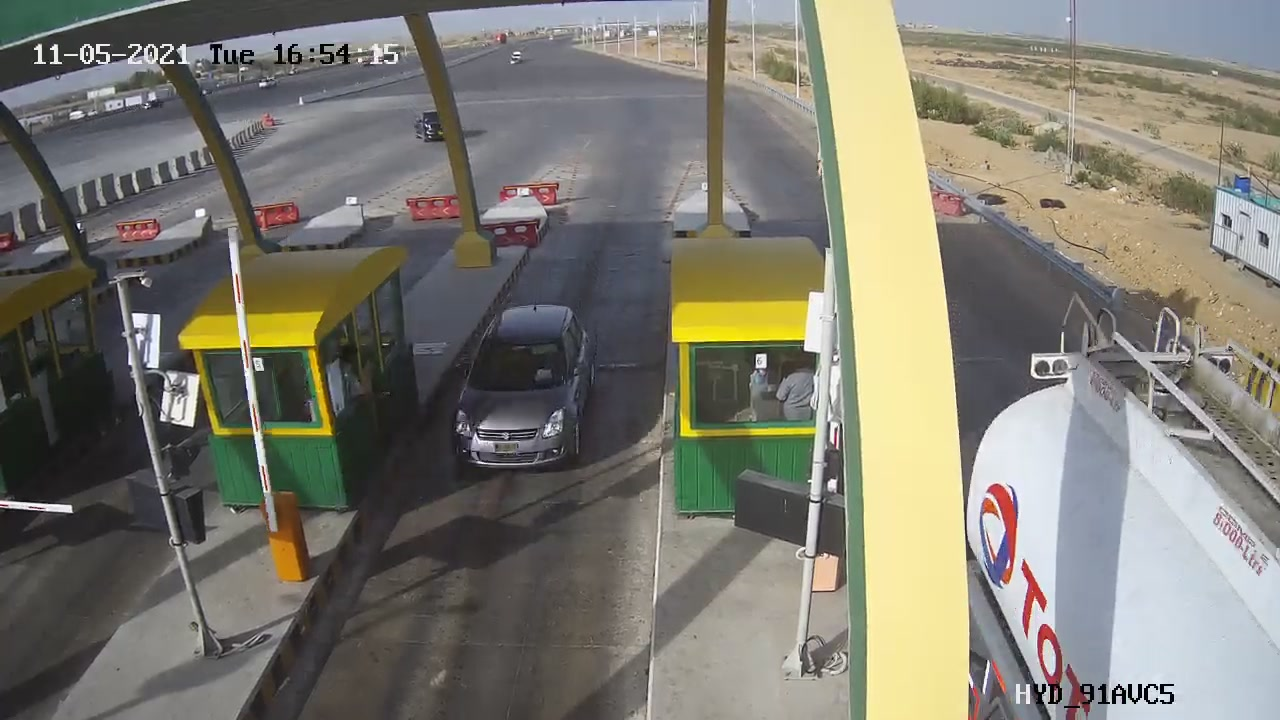F1: (429, 285, 622, 494)
